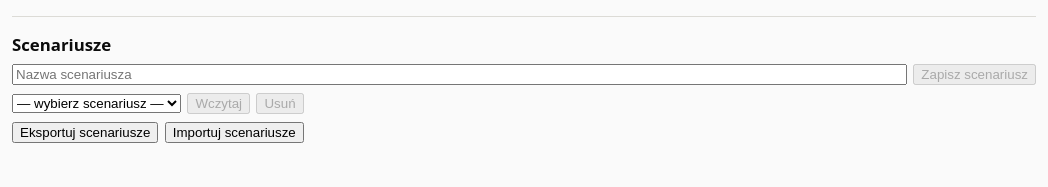
Scenario: ScenarioBar › loading a stored scenario drops unknown keys and clamps values
Step 1. Select "Stary" in the dropdown named "Zapisane scenariusze" → (96, 104), box top-left (12, 94), bottom-right (181, 113)
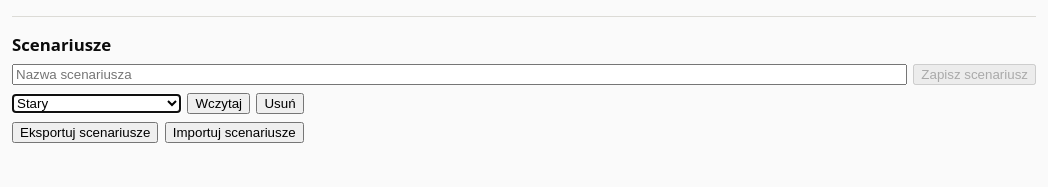
Step 2. Click the button "Wczytaj" → (219, 104), box top-left (187, 93), bottom-right (250, 114)
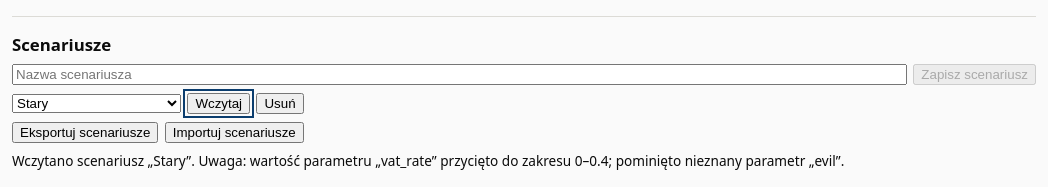
Expected: the message shows "evil", top-left (12, 151), bottom-right (844, 170)
